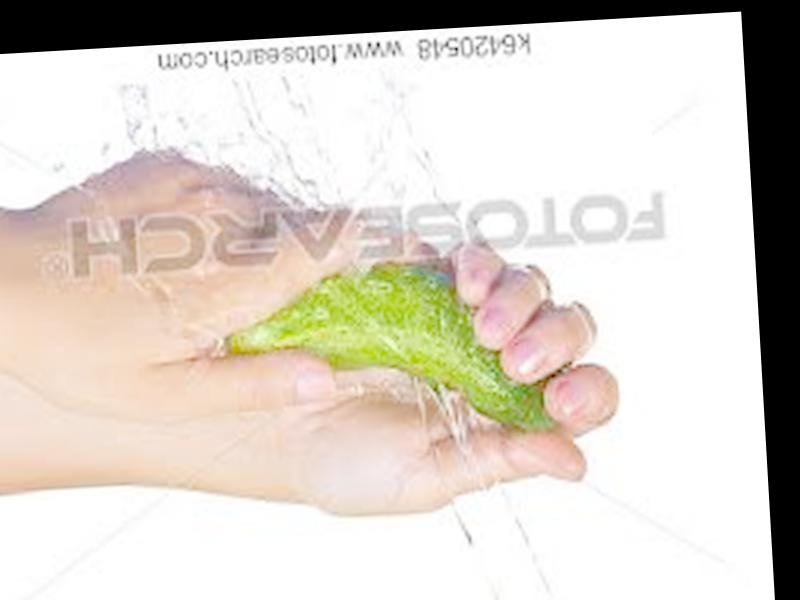Cucumber: (212, 247, 560, 451)
